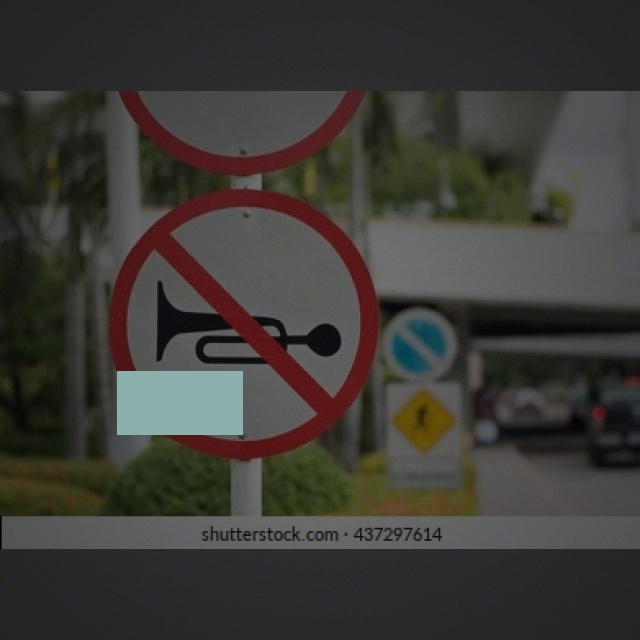Horn_Prohibited: (108, 191, 380, 456)
